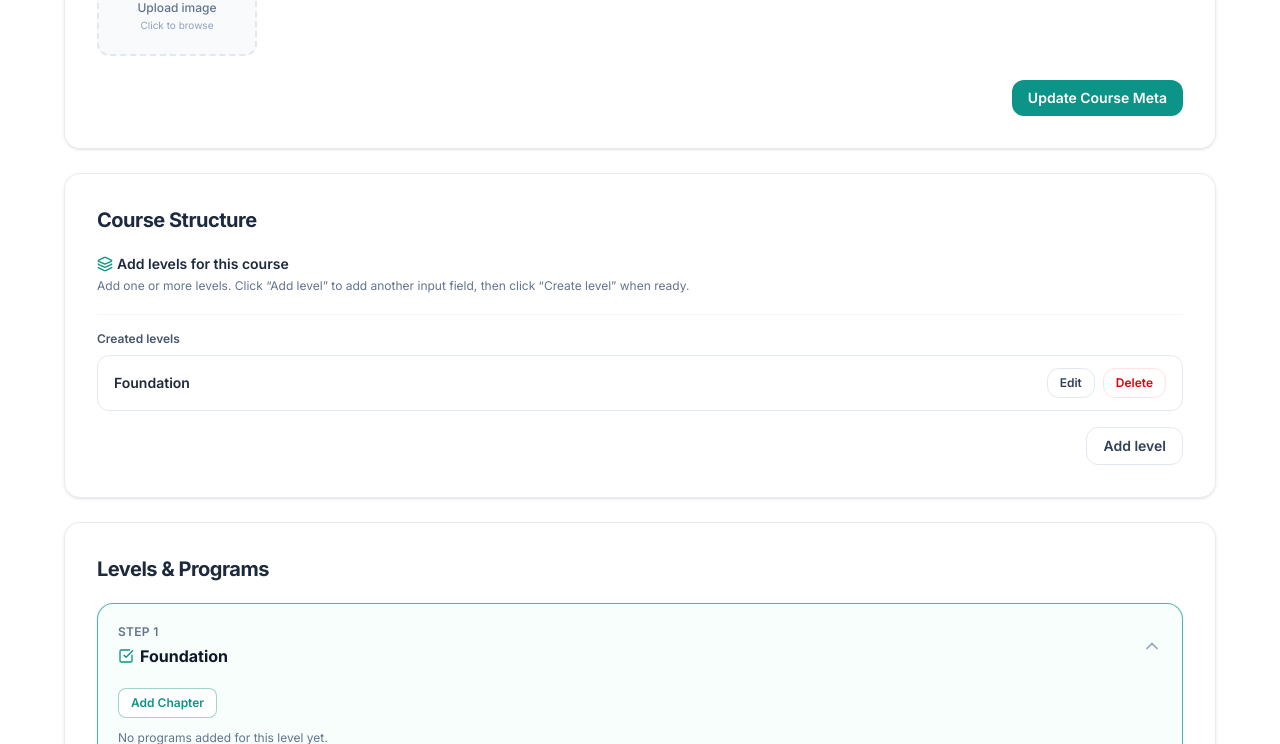
Test: InstituteAdminCourseBuilder – add level form toggle › reveals level input form when "Add level" toggle button is clicked
The width and height of the screenshot is (1280, 744).
(page scrolled)
Expected: the text "Created levels" is shown, left=97, top=330, right=180, bottom=346
# The toggle button is the last one (inside the Created levels section footer)
Step 1. Click the button "Add level" → coordinates (1135, 446), box left=1086, top=426, right=1183, bottom=464
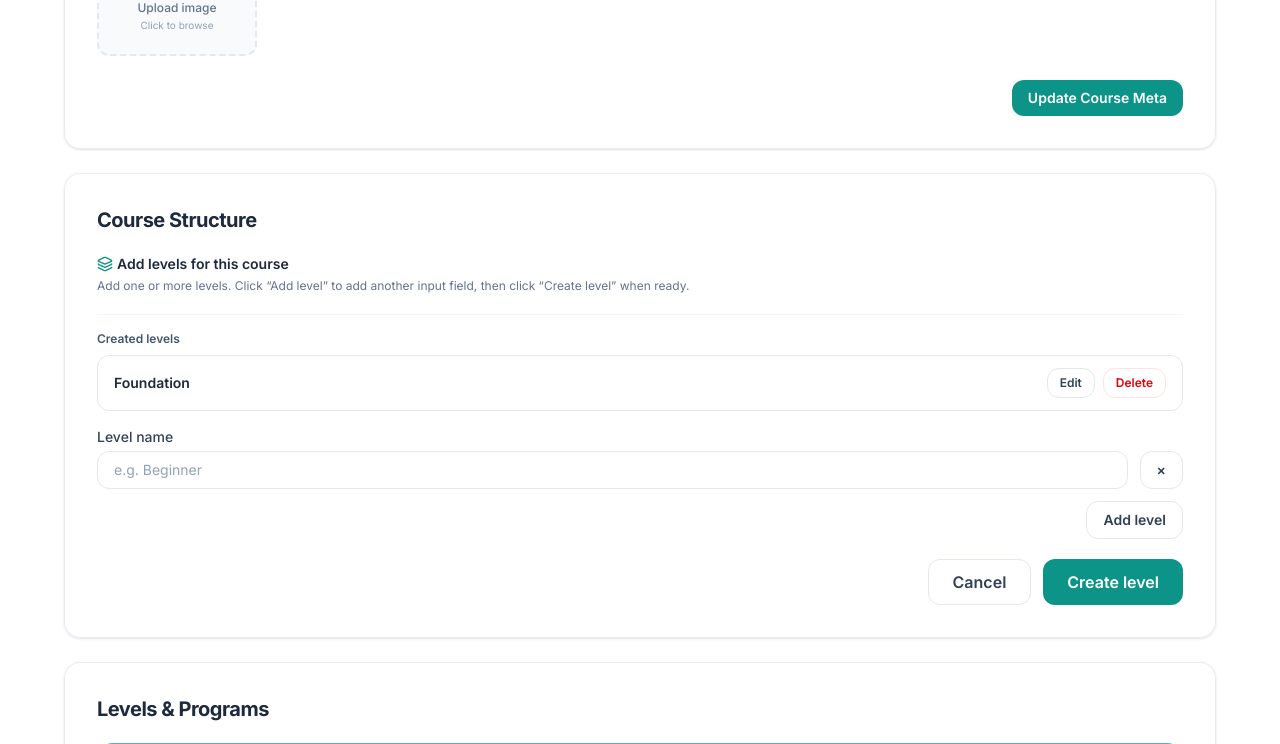
Expected: the button "Create level" is shown, left=1043, top=558, right=1183, bottom=604
